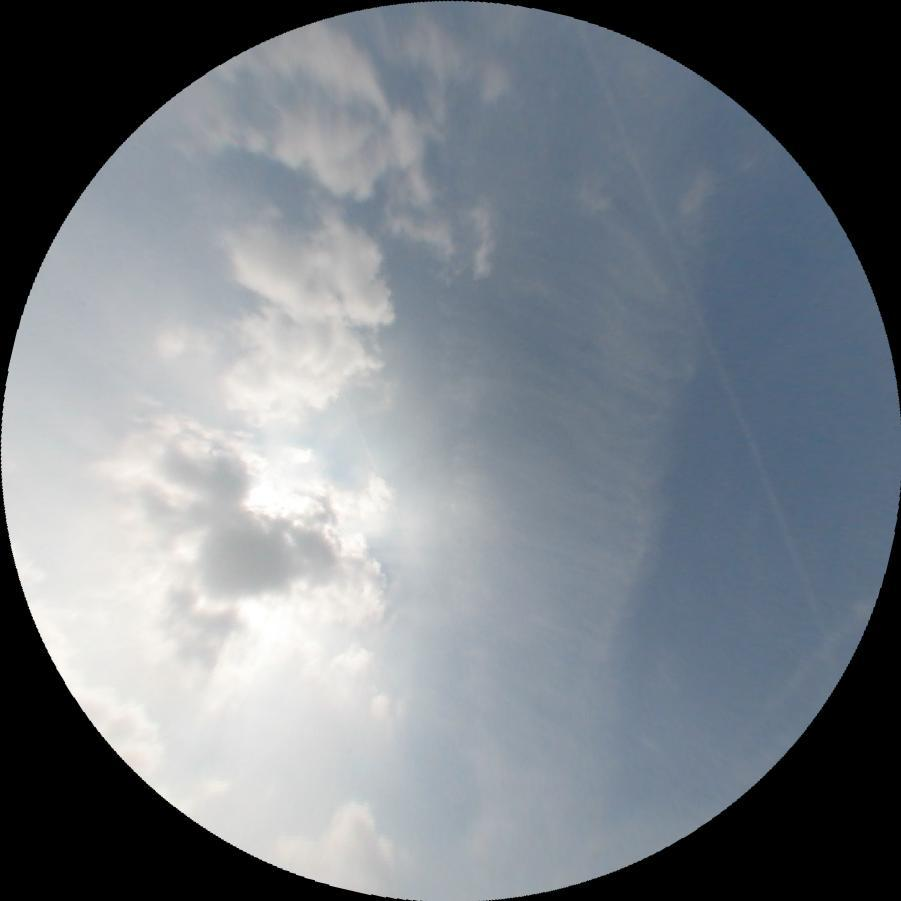contrail old: (573, 16, 849, 671)
contrail young: (337, 390, 452, 627)
sun: (201, 480, 320, 639)
